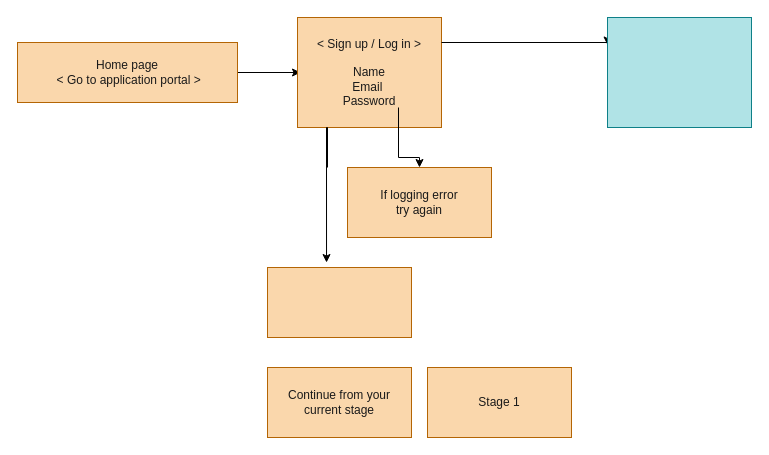
Some shapes in this 769 by 455 pixel diagram are drawn without their labels. Here are the shapes that lost their labels. From the top down, the box of each, then its label:
(606, 16, 752, 128): If signing up data saved as an object Name Email Password
(266, 266, 412, 338): If logging in welocme
